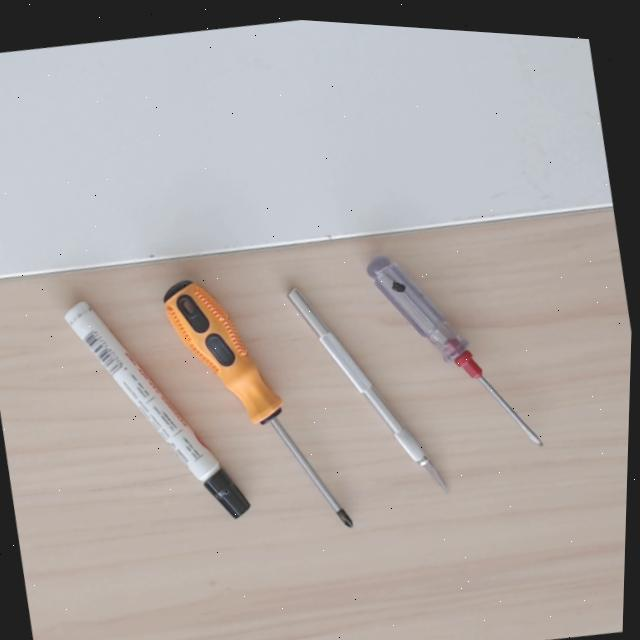Cutter-Kecil: (281, 283, 453, 498)
Marker-Pen: (58, 297, 256, 525)
Obeng-Besar: (152, 267, 360, 552)
Obeng-Kecil: (359, 249, 549, 456)
